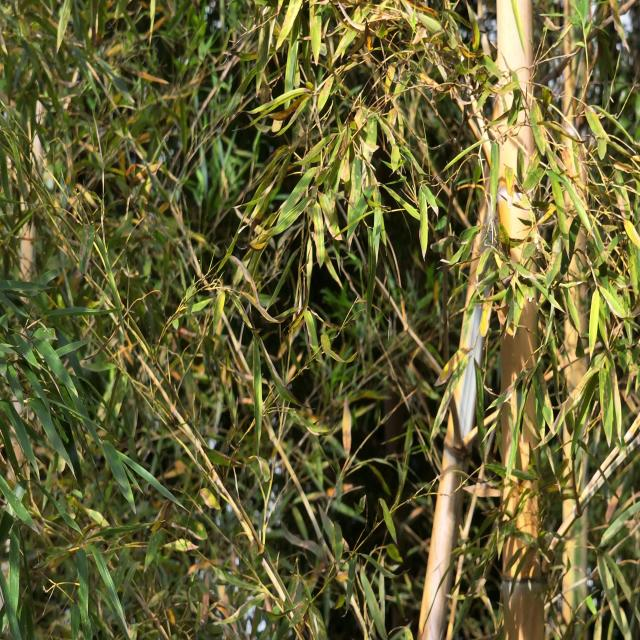Bamboo-shoots: (497, 0, 546, 640)
